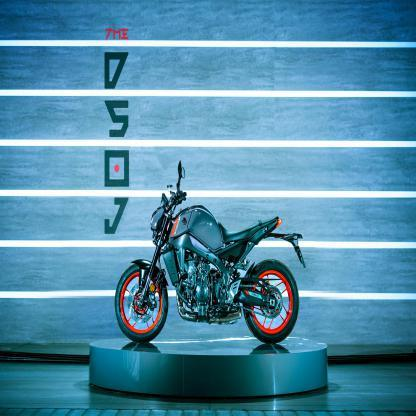Motorcycle: (115, 159, 310, 356)
